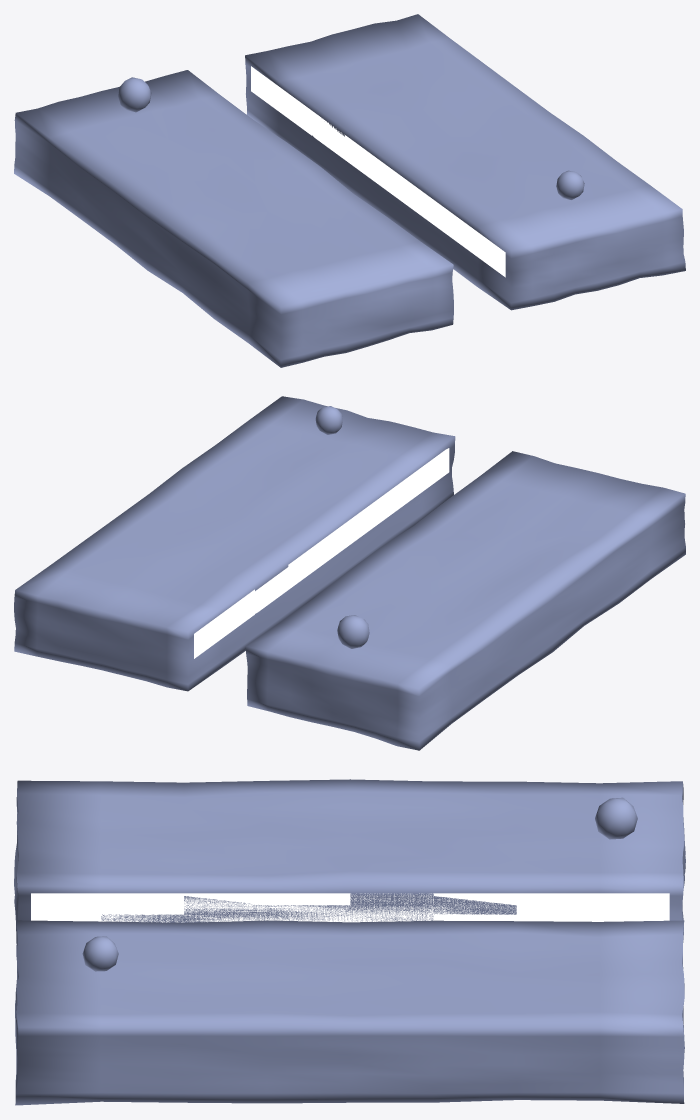
The model's file is OBS_CloudGap.fbx.
The picture shows the model from 3 angles, top to bottom: view 1: azimuth 30°, elevation 25°; view 2: azimuth 150°, elevation 25°; view 3: azimuth 270°, elevation 25°; orthographic projection. The views are drawn at different scales.
Visible parts, largest first — view 1: OBS_CloudGap; view 2: OBS_CloudGap; view 3: OBS_CloudGap.
Boxes of the visible parts, bbox=[...] form: OBS_CloudGap: bbox=[14, 14, 685, 367]; OBS_CloudGap: bbox=[14, 396, 685, 750]; OBS_CloudGap: bbox=[14, 779, 685, 1105].
Bounding box in the file's own units: 7.07 × 1.57 × 8.08.
